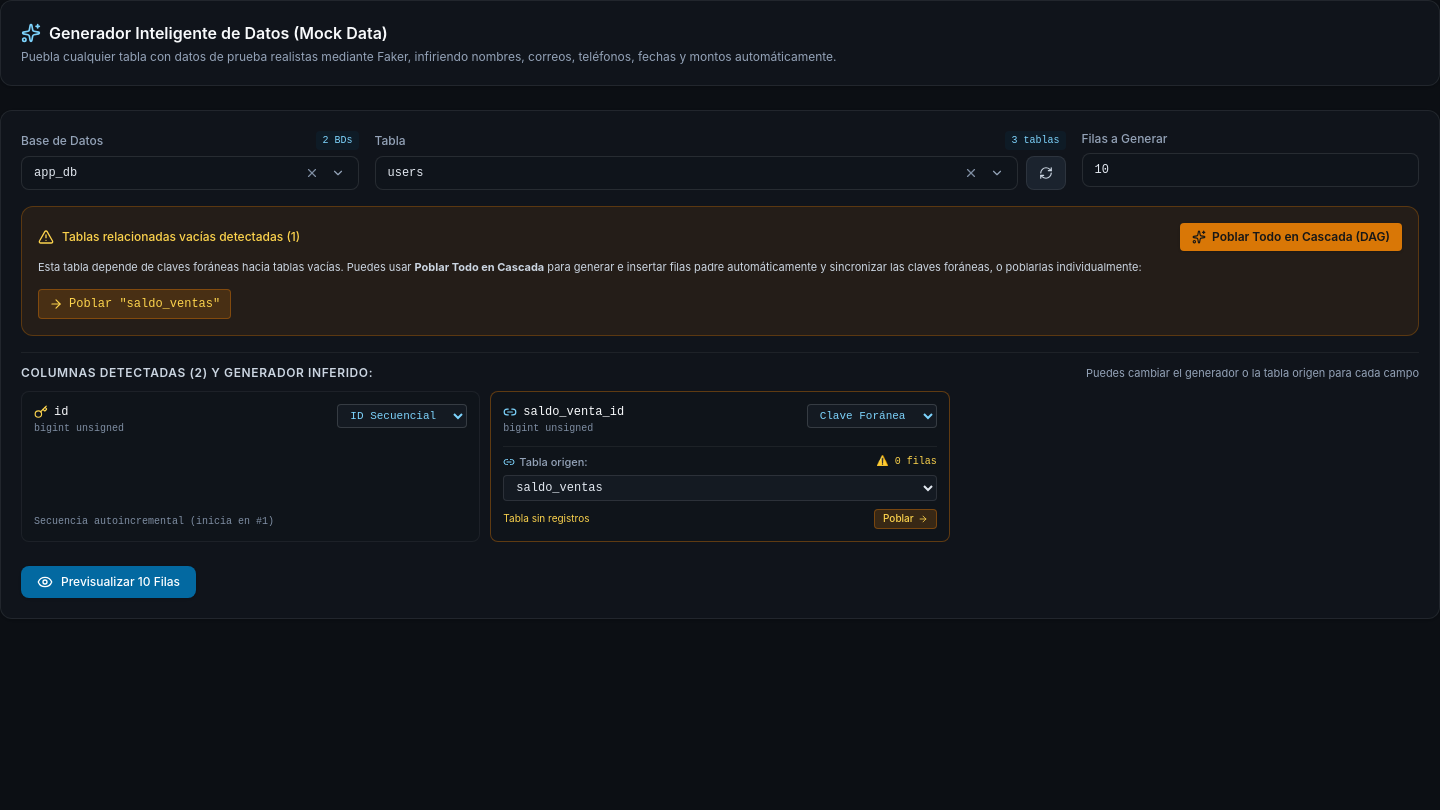
it: MockDataTab › warns when a foreign key table has 0 rows and offers a button to populate it
# Clicking populate switches table to saldo_ventas
Click the button "Poblar \"saldo_ventas\"". click: (135, 304)
box: [38,289,231,319]
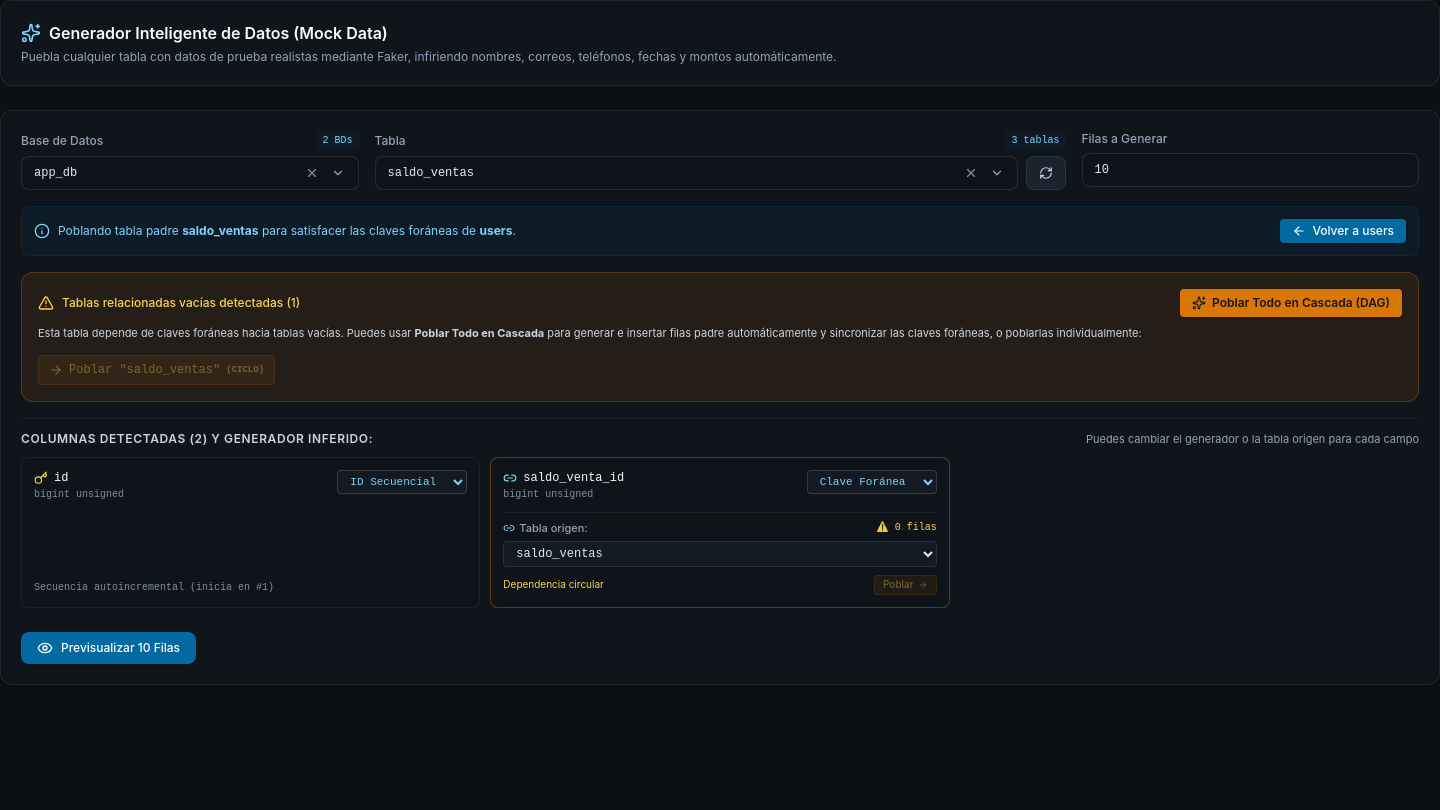
Result: the text "Poblando tabla padre saldo_ventas" is shown at [58,223,516,239]
Result: the text "Volver a users" is shown at [1312,223,1394,239]
